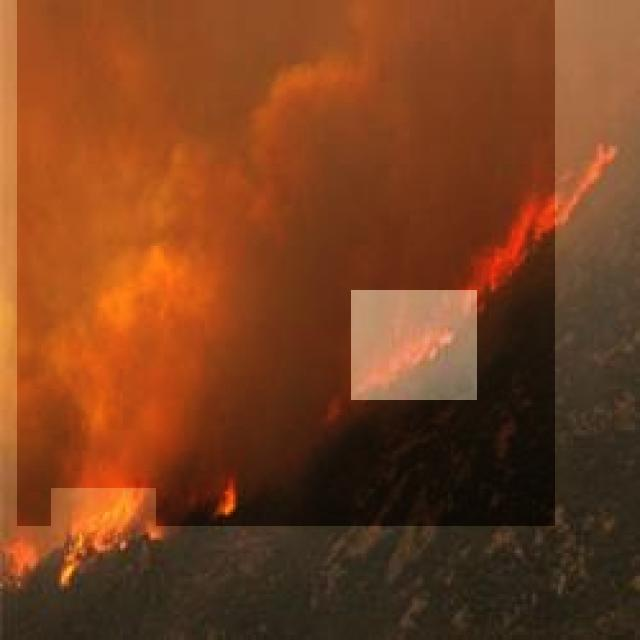Fire: (351, 290, 477, 400), (51, 488, 156, 574)
Smoke: (17, 0, 555, 526)
